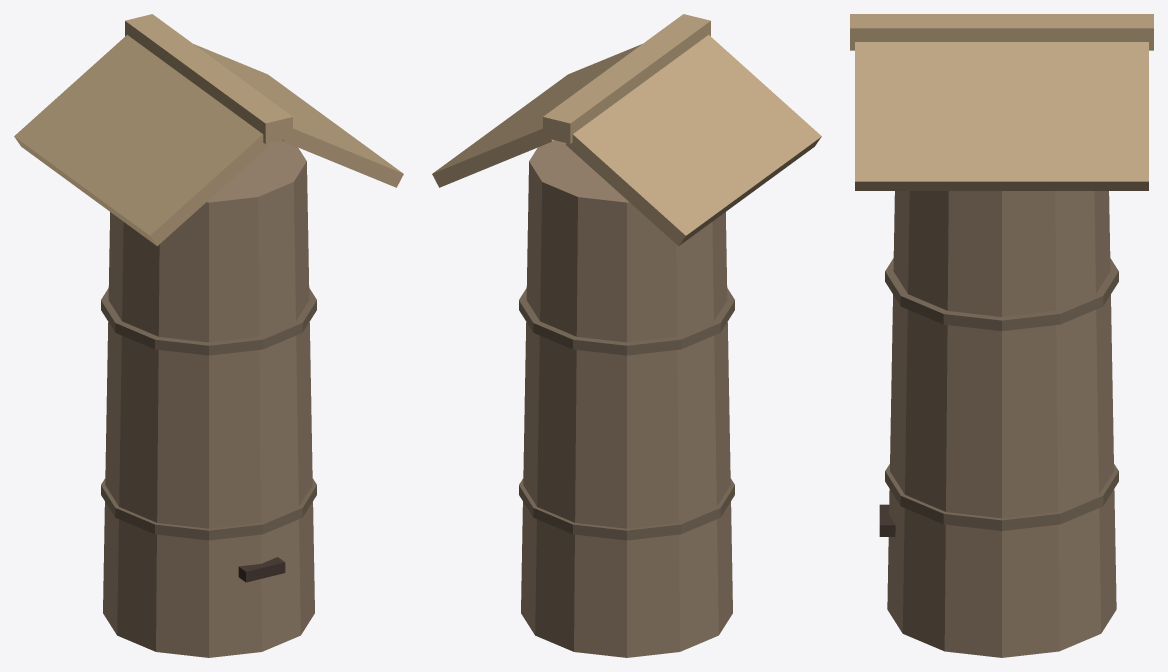
Rendered from hive.glb.
3 renders of one model, left to right at view 1: azimuth 30°, elevation 25°; view 2: azimuth 150°, elevation 25°; view 3: azimuth 270°, elevation 25°, orthographic. The views are drawn at different scales.
Visible parts, largest first — view 1: ware; view 2: ware; view 3: ware.
Part boxes in pixels (bbox=[...]): ware: bbox=[14, 14, 403, 657]; ware: bbox=[432, 14, 821, 657]; ware: bbox=[850, 14, 1153, 657].
Size of the model in its own units: 0.6469 by 1.32 by 0.62.
